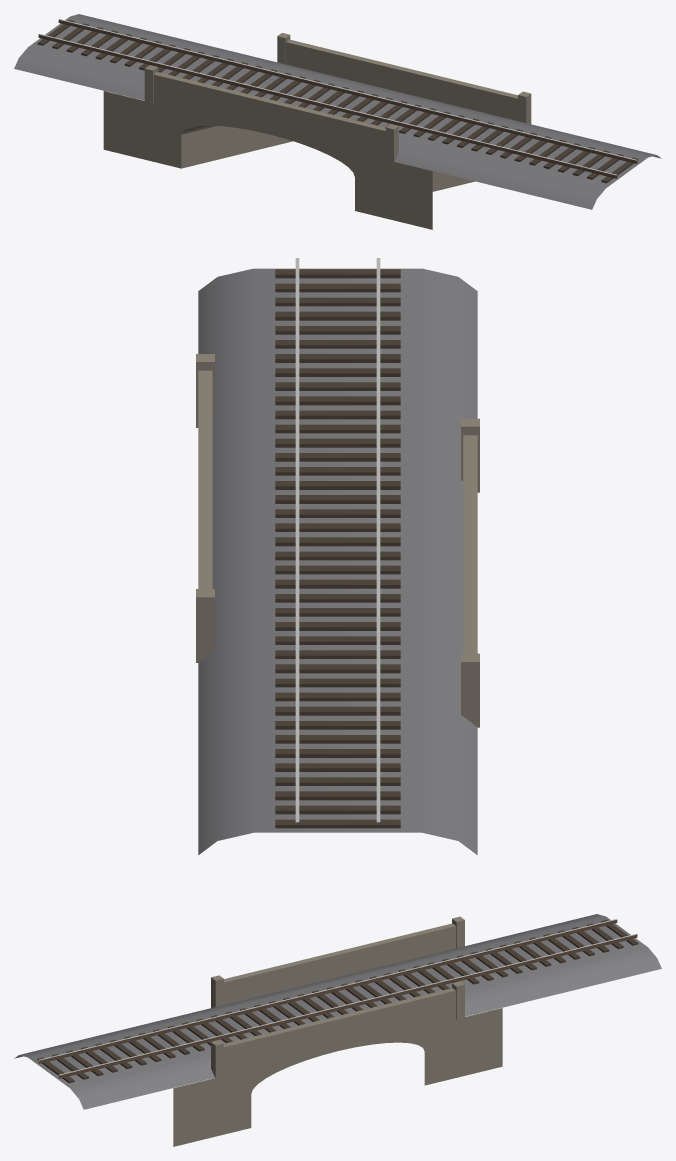
The model's file is river_rail_bridge_center.glb.
The picture shows the model from 3 angles, top to bottom: view 1: azimuth 30°, elevation 25°; view 2: azimuth 150°, elevation 25°; view 3: azimuth 270°, elevation 25°; orthographic projection. The views are drawn at different scales.
Visible parts, largest first — view 1: river_rail_bridge_center_lod0; view 2: river_rail_bridge_center_lod0; view 3: river_rail_bridge_center_lod0.
Boxes of the visible parts, x1=… form: river_rail_bridge_center_lod0: x1=14, y1=14, x2=661, y2=229; river_rail_bridge_center_lod0: x1=196, y1=258, x2=479, y2=854; river_rail_bridge_center_lod0: x1=14, y1=914, x2=661, y2=1146.
Size of what is drawn, in the model's own units: 18.88 by 4.2 by 26.9.
